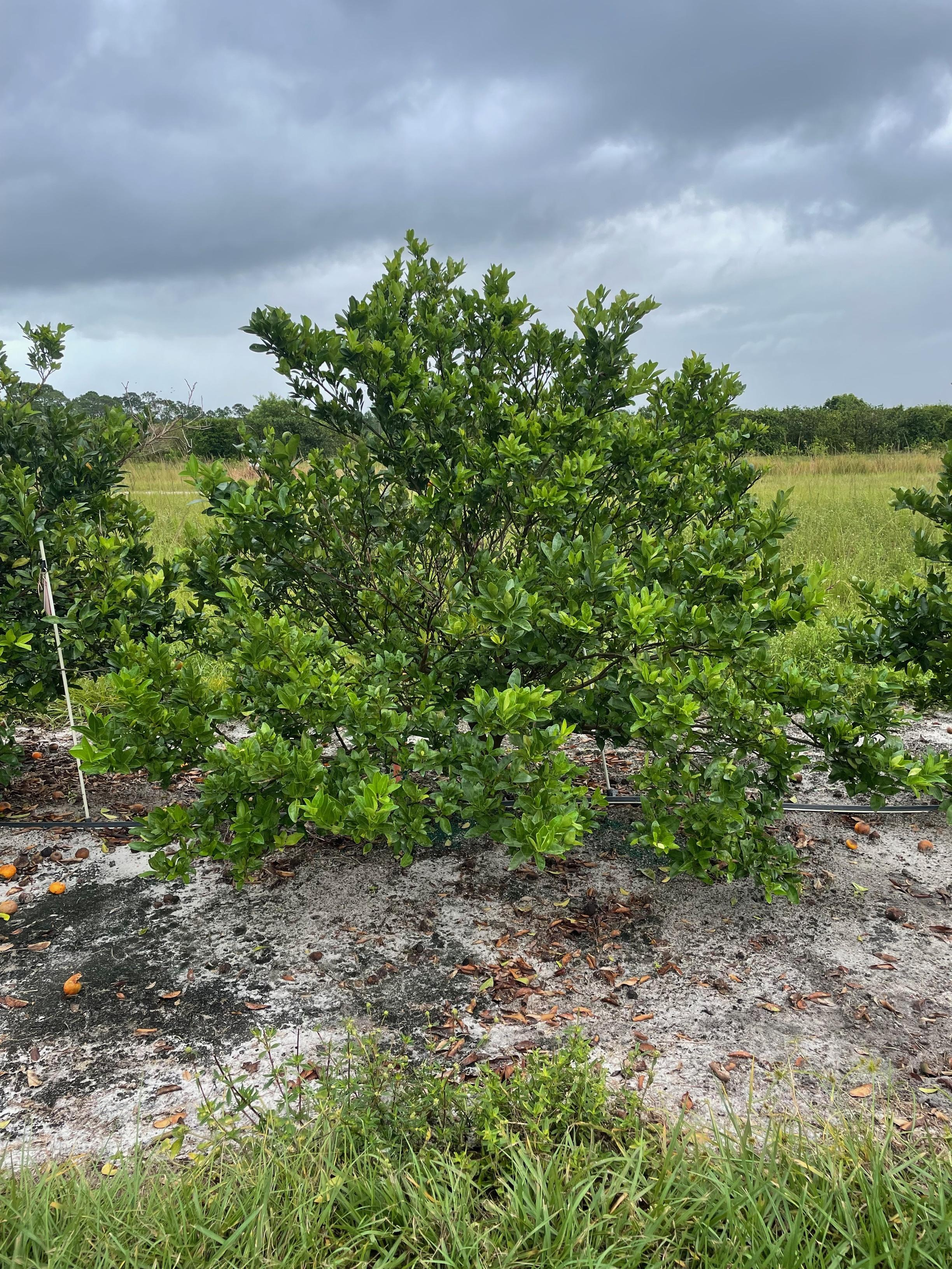fruit_on_tree: (61, 971, 85, 998), (0, 897, 19, 916), (47, 879, 67, 896), (1, 861, 18, 880), (885, 905, 905, 921), (853, 820, 872, 836), (917, 837, 936, 852), (74, 844, 91, 860), (843, 835, 859, 849), (866, 829, 882, 842), (30, 748, 45, 760), (48, 740, 60, 752)
